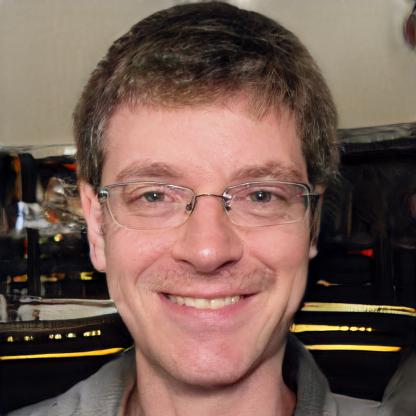glasses: (94, 176, 318, 230)
